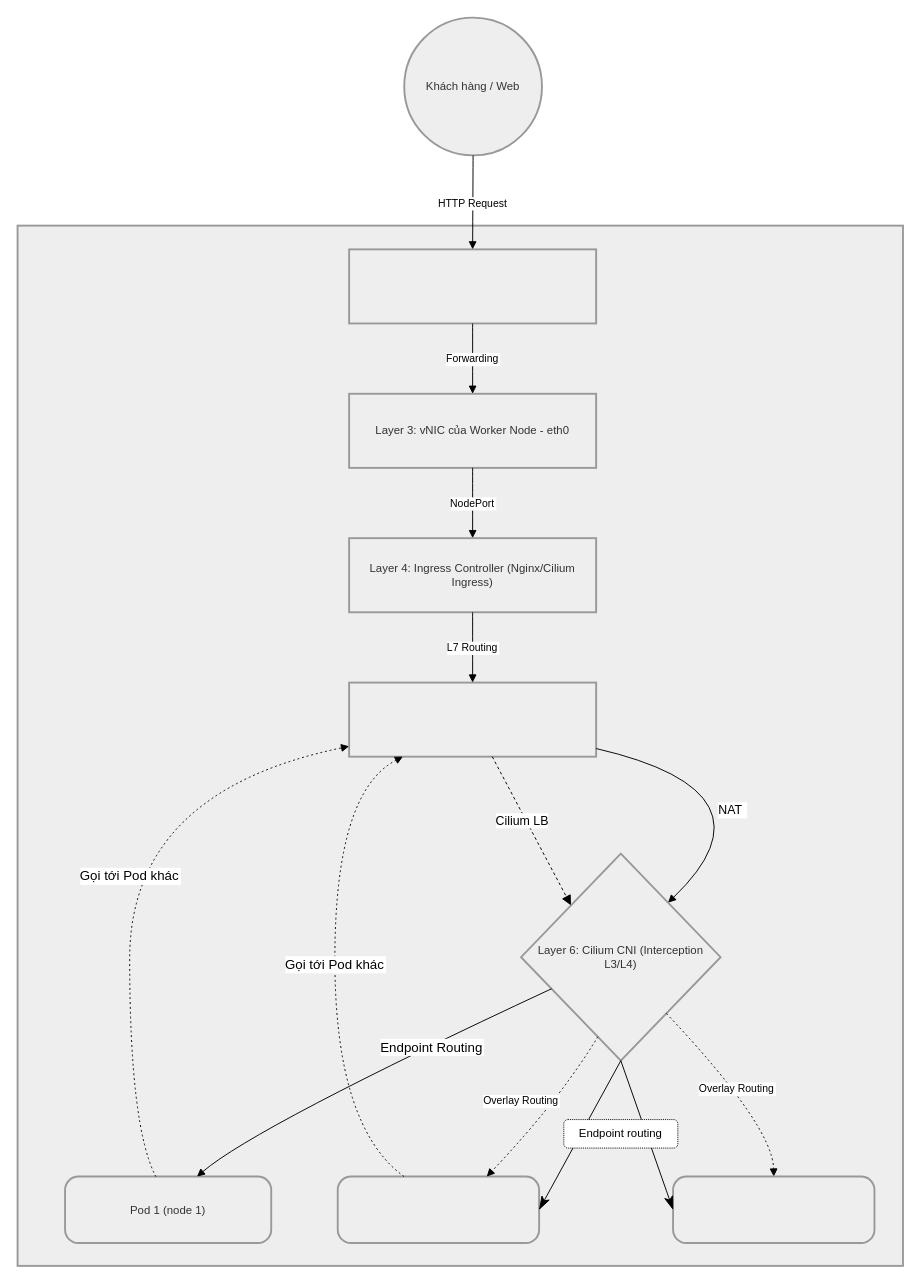
Some shapes in this 920 by 1283 pixel diagram are drawn without their labels. The shapes that lost their labels are listed below. From the top down, each one's centre as x and y in pixels, then its label:
At (472,286): "Layer 2: Load Balancer / kube-vip".
At (472,719): "Layer 5: Service (Cluster IP)".
At (438,1209): "Pod 2 (node2)".
At (773,1209): "Pod 3 (node3)".
